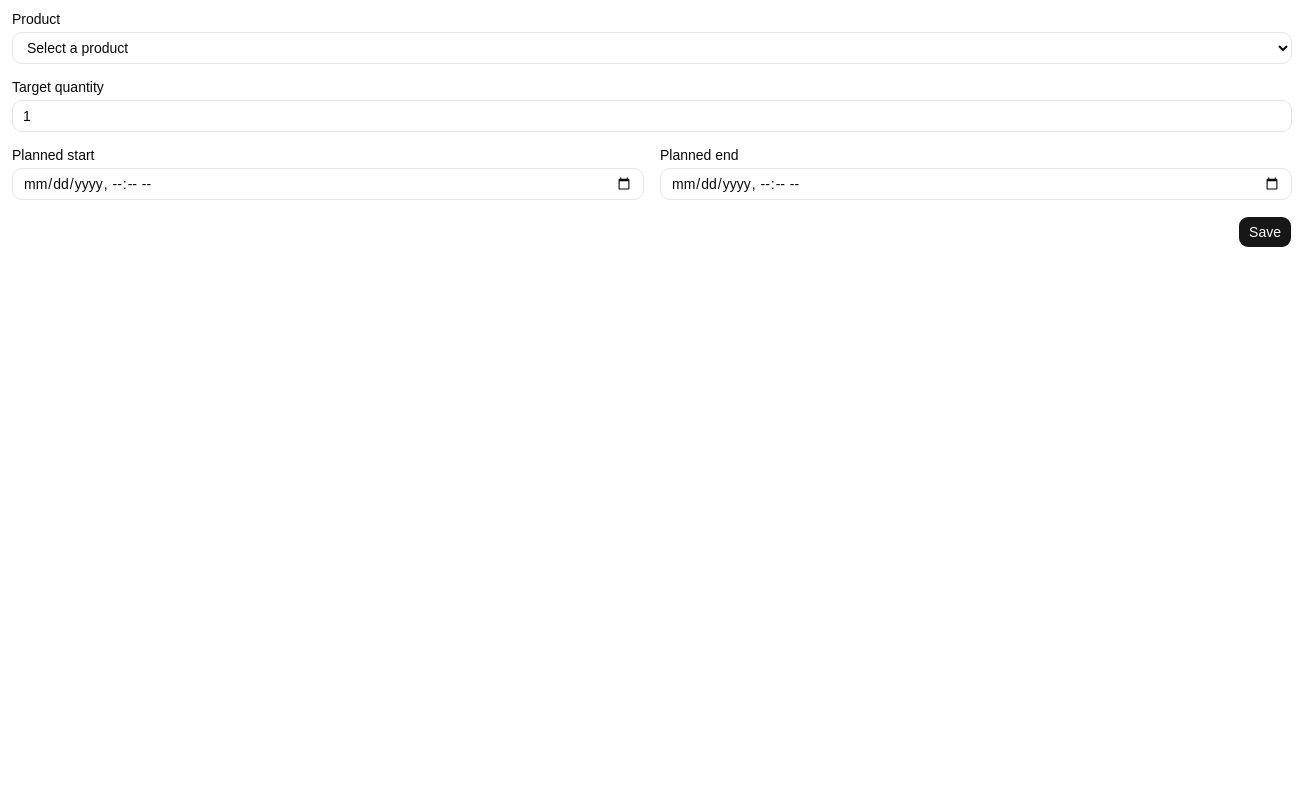
Test: WorkOrderForm › blocks submit when a step has no equipment
The image size is (1304, 812).
Select "CATH-NCM811" in the dropdown labelled "Product" at (652, 48), box [12,32,1292,64]
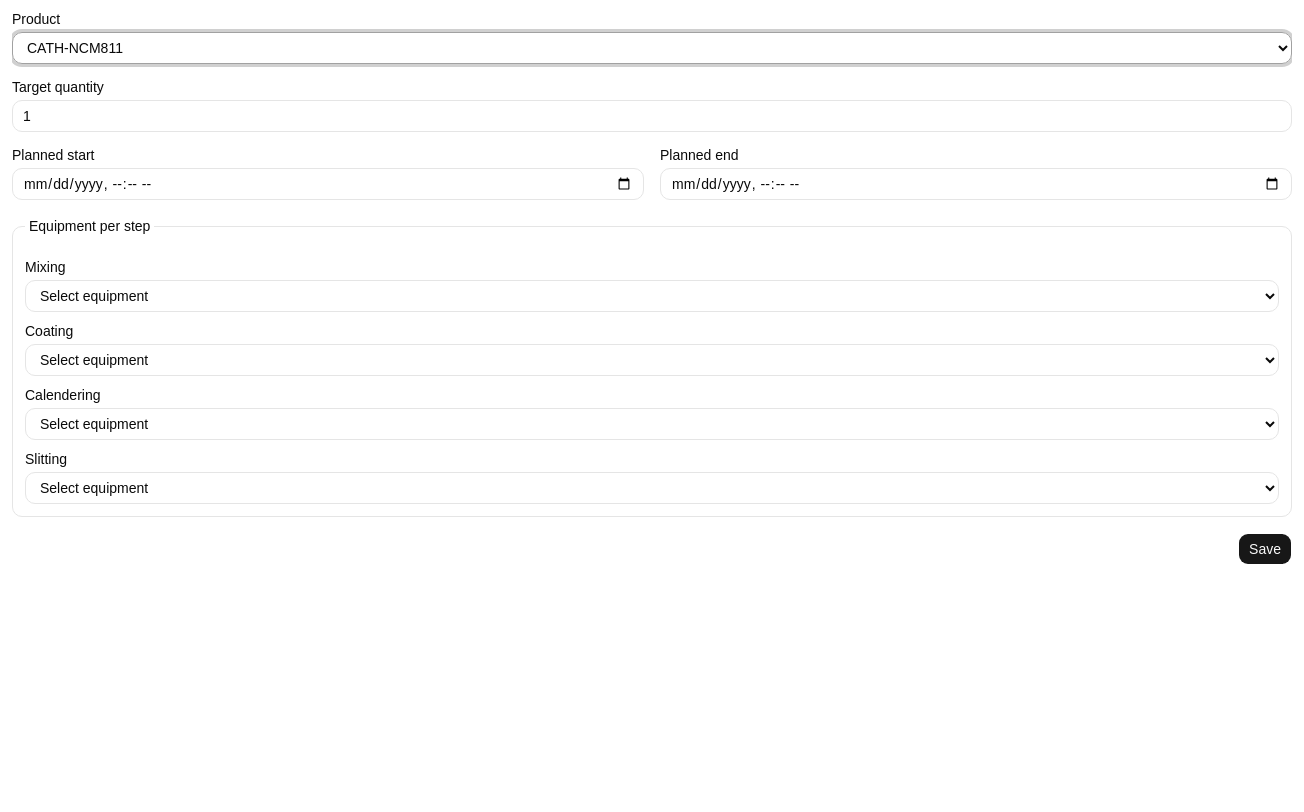
Replace the text in the number field labelled "Target quantity" with "8" at (652, 116), box [12,100,1292,132]
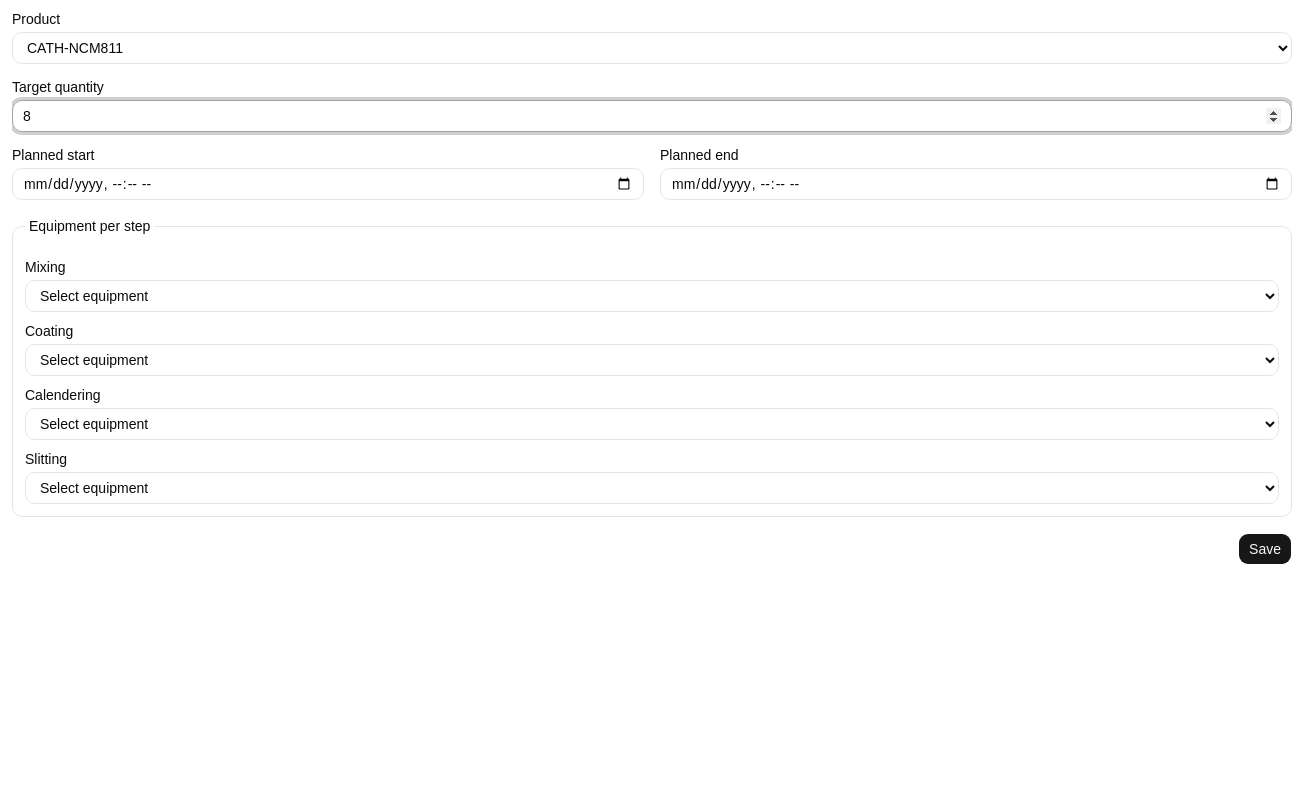
Type "2026-10-05T08:00" into the field labelled "Planned start" at (328, 184), box [12,168,644,200]
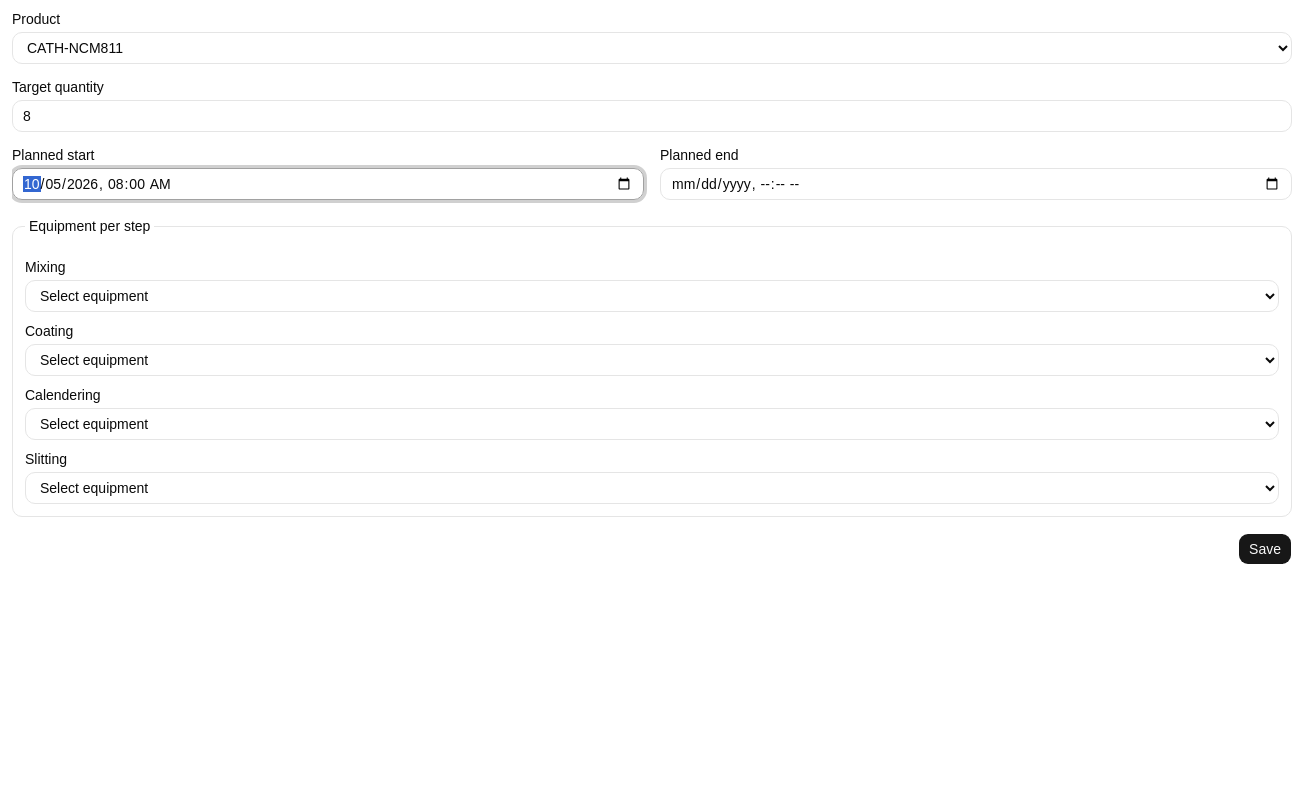
Type "2026-10-06T08:00" into the field labelled "Planned end" at (976, 184), box [660,168,1292,200]
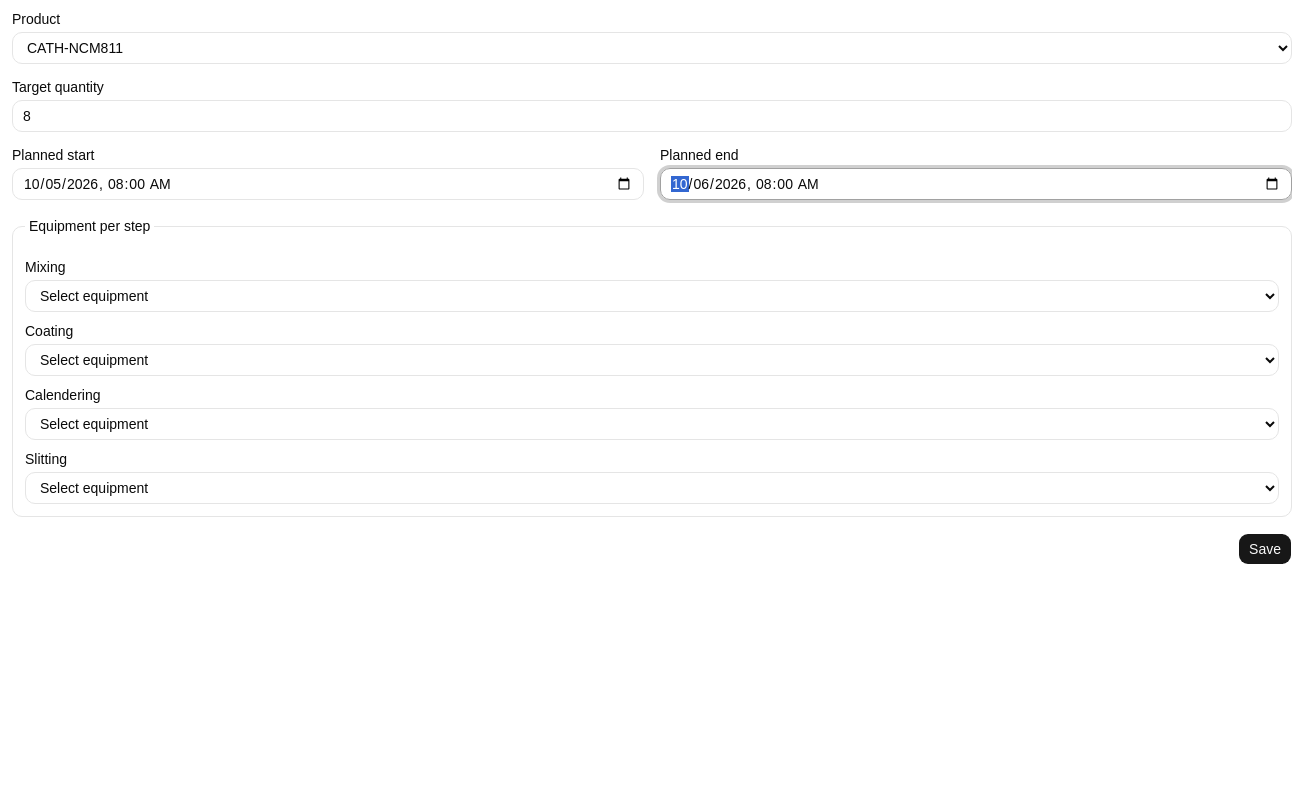
Select "MX01" in the dropdown labelled "Mixing" at (652, 296), box [25,280,1279,312]
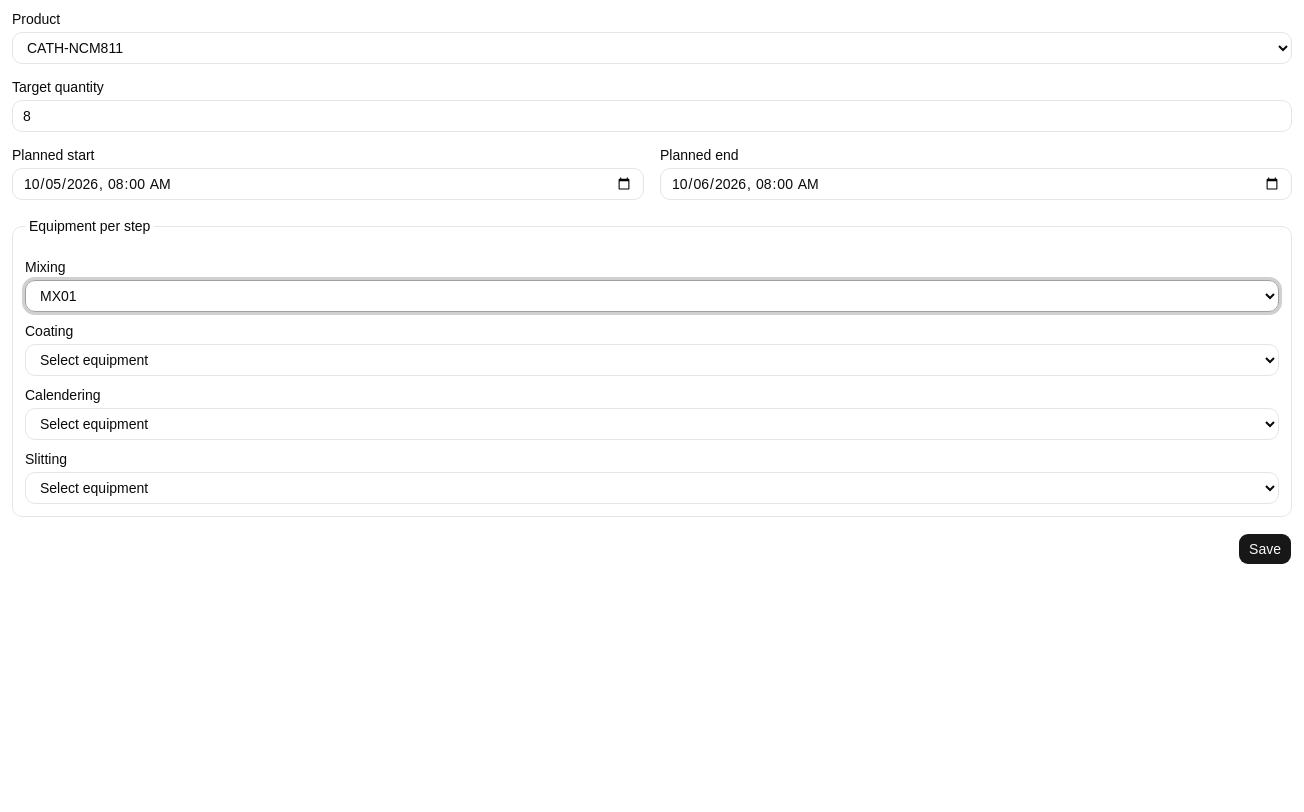
Click the button "Save" at (1265, 549), box [1238,533,1292,565]
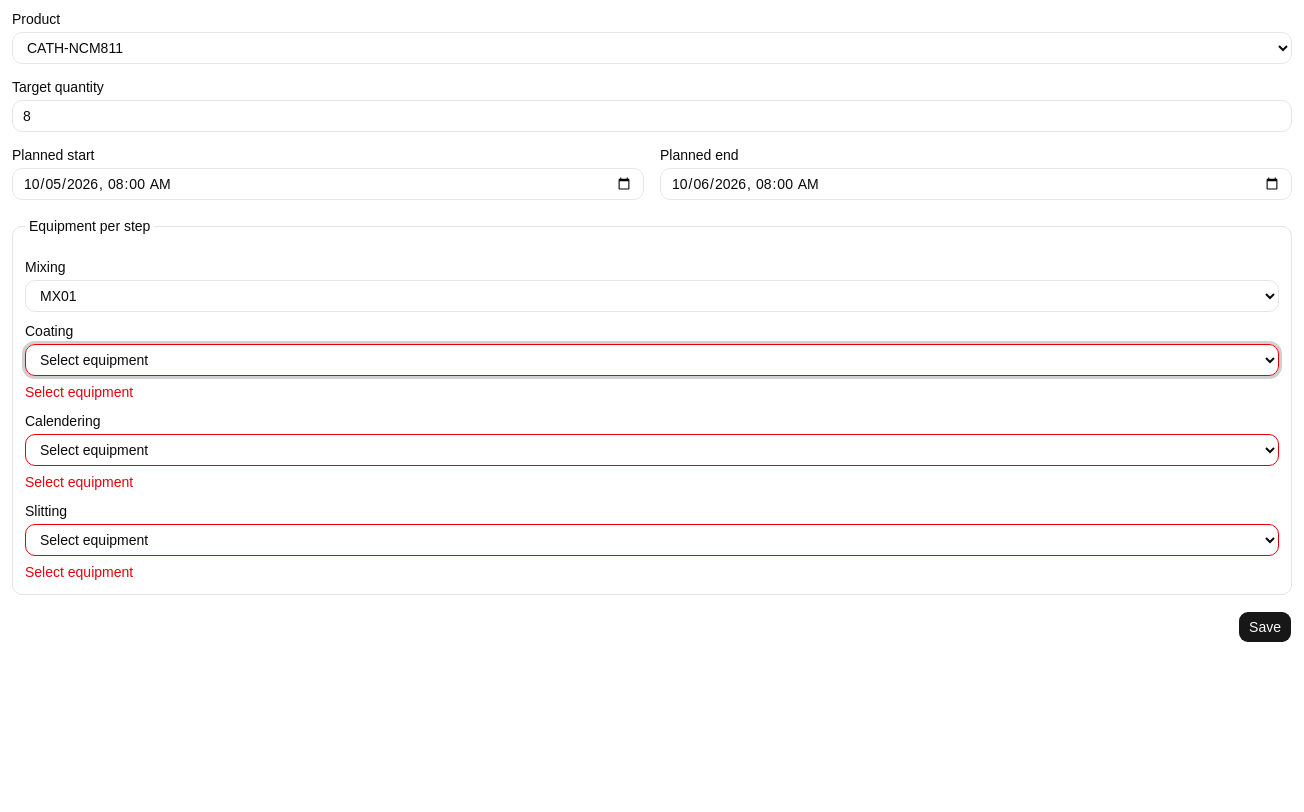
Check: the text "Select equipment" is shown 3 times, box [25,384,133,400]; [25,474,133,490]; [25,564,133,580]
